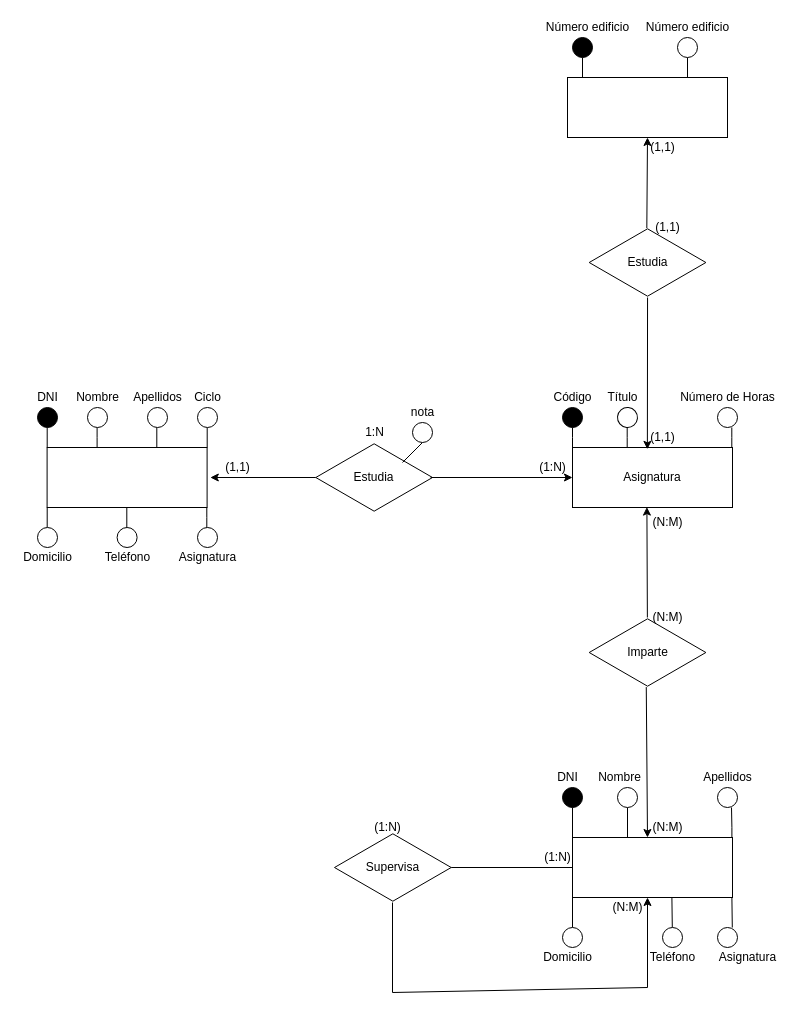
This 799x1013 diagram has some shape labels left out. Each missing label, with the centre of its shape:
Alumno: [126,477]
Aula: [647,107]
Profesor: [652,867]
